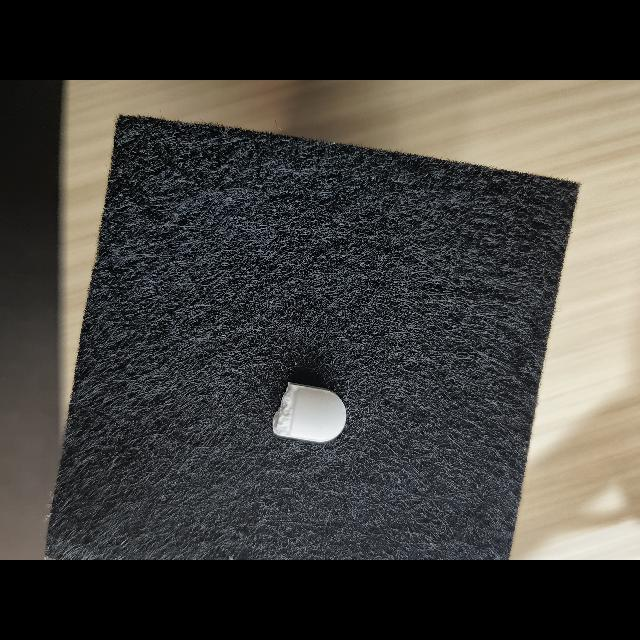Chipped Pill: (273, 382, 347, 442)
